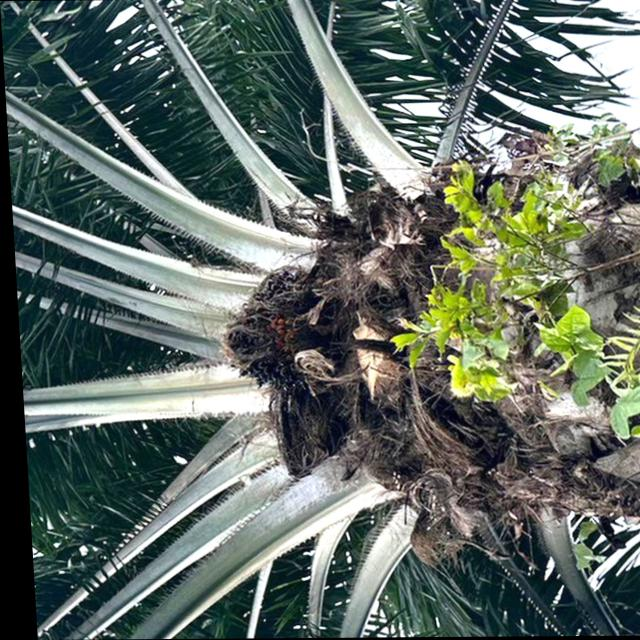almost: (211, 266, 324, 392)
